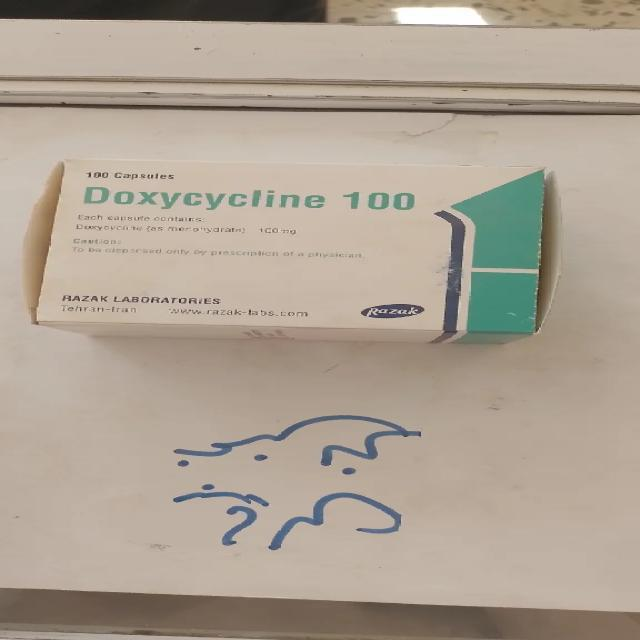drug-name: (81, 185, 418, 213)
